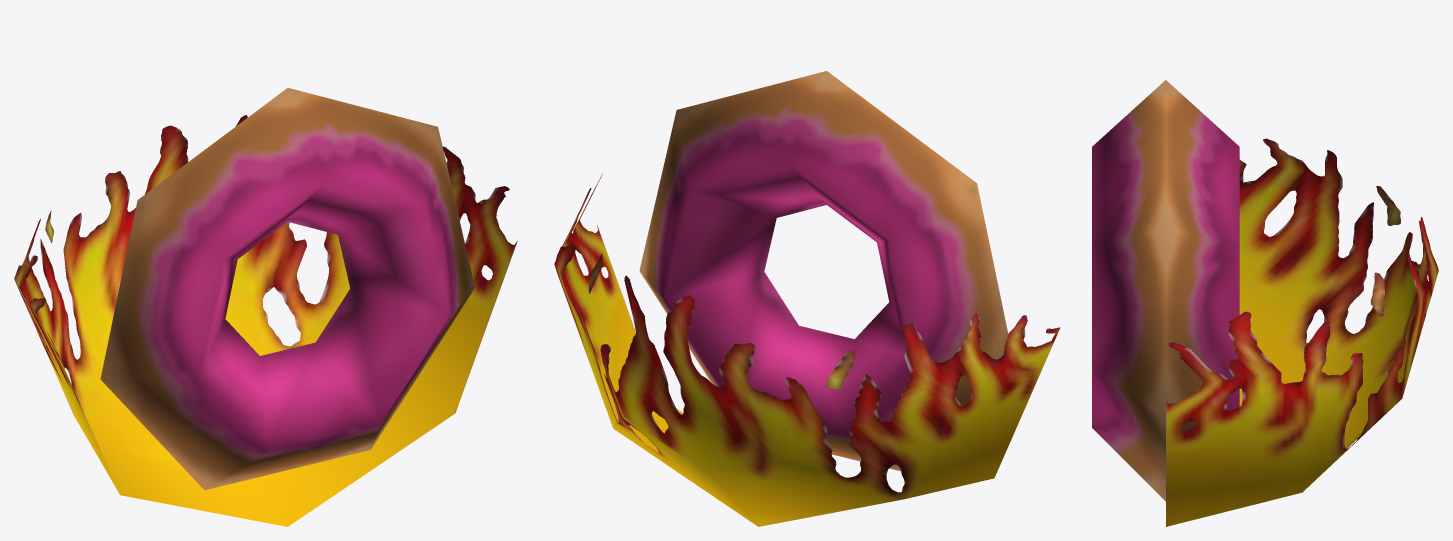
The model's file is Boost_burned_donut.FBX.
The picture shows the model from 3 angles, left to right: view 1: azimuth 30°, elevation 25°; view 2: azimuth 150°, elevation 25°; view 3: azimuth 270°, elevation 25°; orthographic projection.
Parts seen in each view (by area): view 1: Shielded_donut, Shield; view 2: Shielded_donut, Shield; view 3: Shield, Shielded_donut.
Boxes of the visible parts, left/top/right/bottom form: Shielded_donut: left=100, top=88, right=474, bottom=490; Shield: left=14, top=115, right=517, bottom=526; Shielded_donut: left=639, top=71, right=1008, bottom=471; Shield: left=554, top=174, right=1060, bottom=526; Shield: left=1166, top=138, right=1438, bottom=526; Shielded_donut: left=1092, top=80, right=1239, bottom=501.
Bounding box in the file's own units: 7.4 × 7.4 × 4.7.
